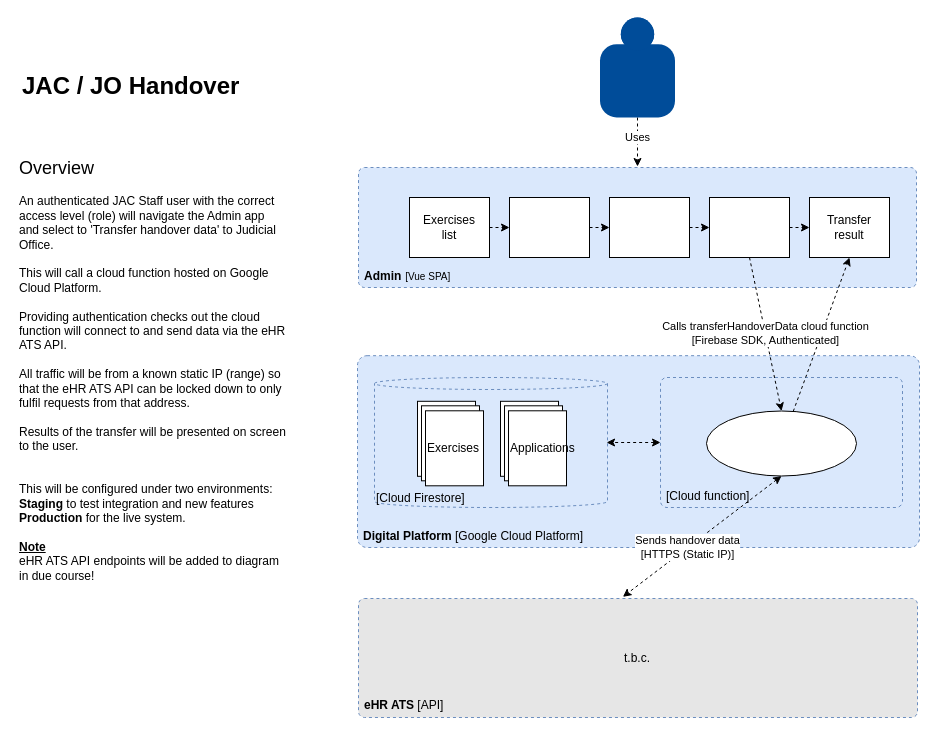
The diagram is 937 pixels wide and 735 high, and some of its shapes have lost their labels. Each missing label, with the centre of its shape:
Exercise: the point at 549,227
Handover list: the point at 649,227
JAC Staff: the point at 637,67
Transfer handover data: the point at 749,227
transferHandoverData: the point at 781,443
